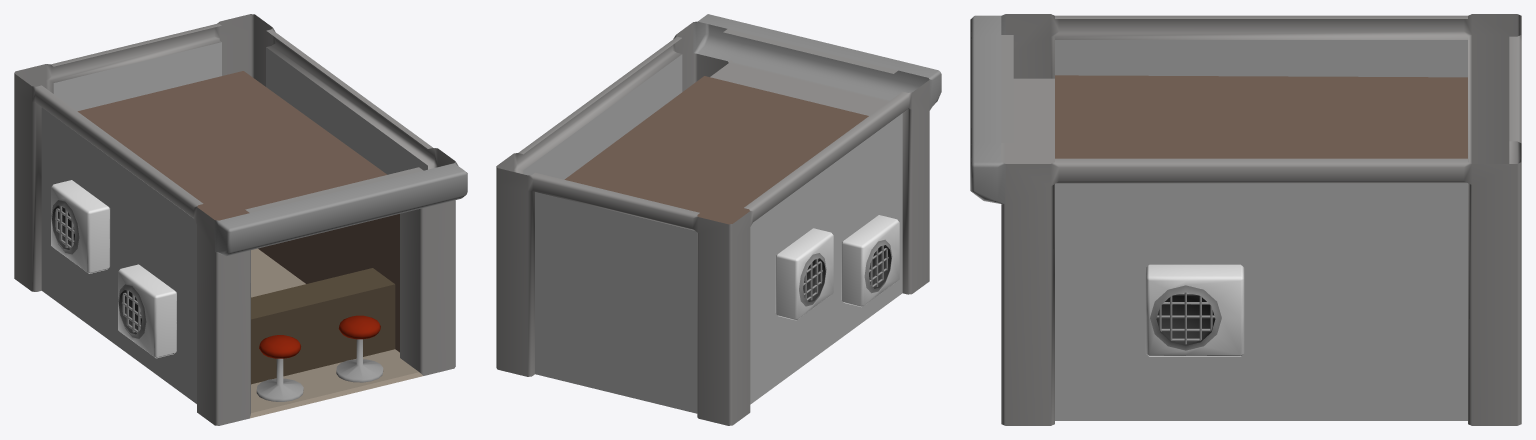
Rendered from GroundFloor3.fbx.
3 views of the same model, side by side, from view 1: azimuth 30°, elevation 25°; view 2: azimuth 150°, elevation 25°; view 3: azimuth 270°, elevation 25° (orthographic). The views are drawn at different scales.
Parts seen in each view (by area): view 1: GroundFloor3, ACUnit1, ACUnit2, Stool2, Stool1; view 2: GroundFloor3, ACUnit1, ACUnit2; view 3: GroundFloor3, ACUnit3.
Part boxes in pixels (x1,y1,x2,y2): GroundFloor3: [14, 14, 467, 425]; ACUnit1: [51, 180, 110, 273]; ACUnit2: [118, 264, 176, 358]; Stool2: [256, 335, 303, 401]; Stool1: [336, 315, 383, 382]; GroundFloor3: [496, 14, 941, 425]; ACUnit1: [775, 228, 833, 320]; ACUnit2: [841, 215, 899, 307]; GroundFloor3: [970, 14, 1521, 425]; ACUnit3: [1145, 264, 1244, 356].
Size of the model in its own units: 490 by 350 by 667.
